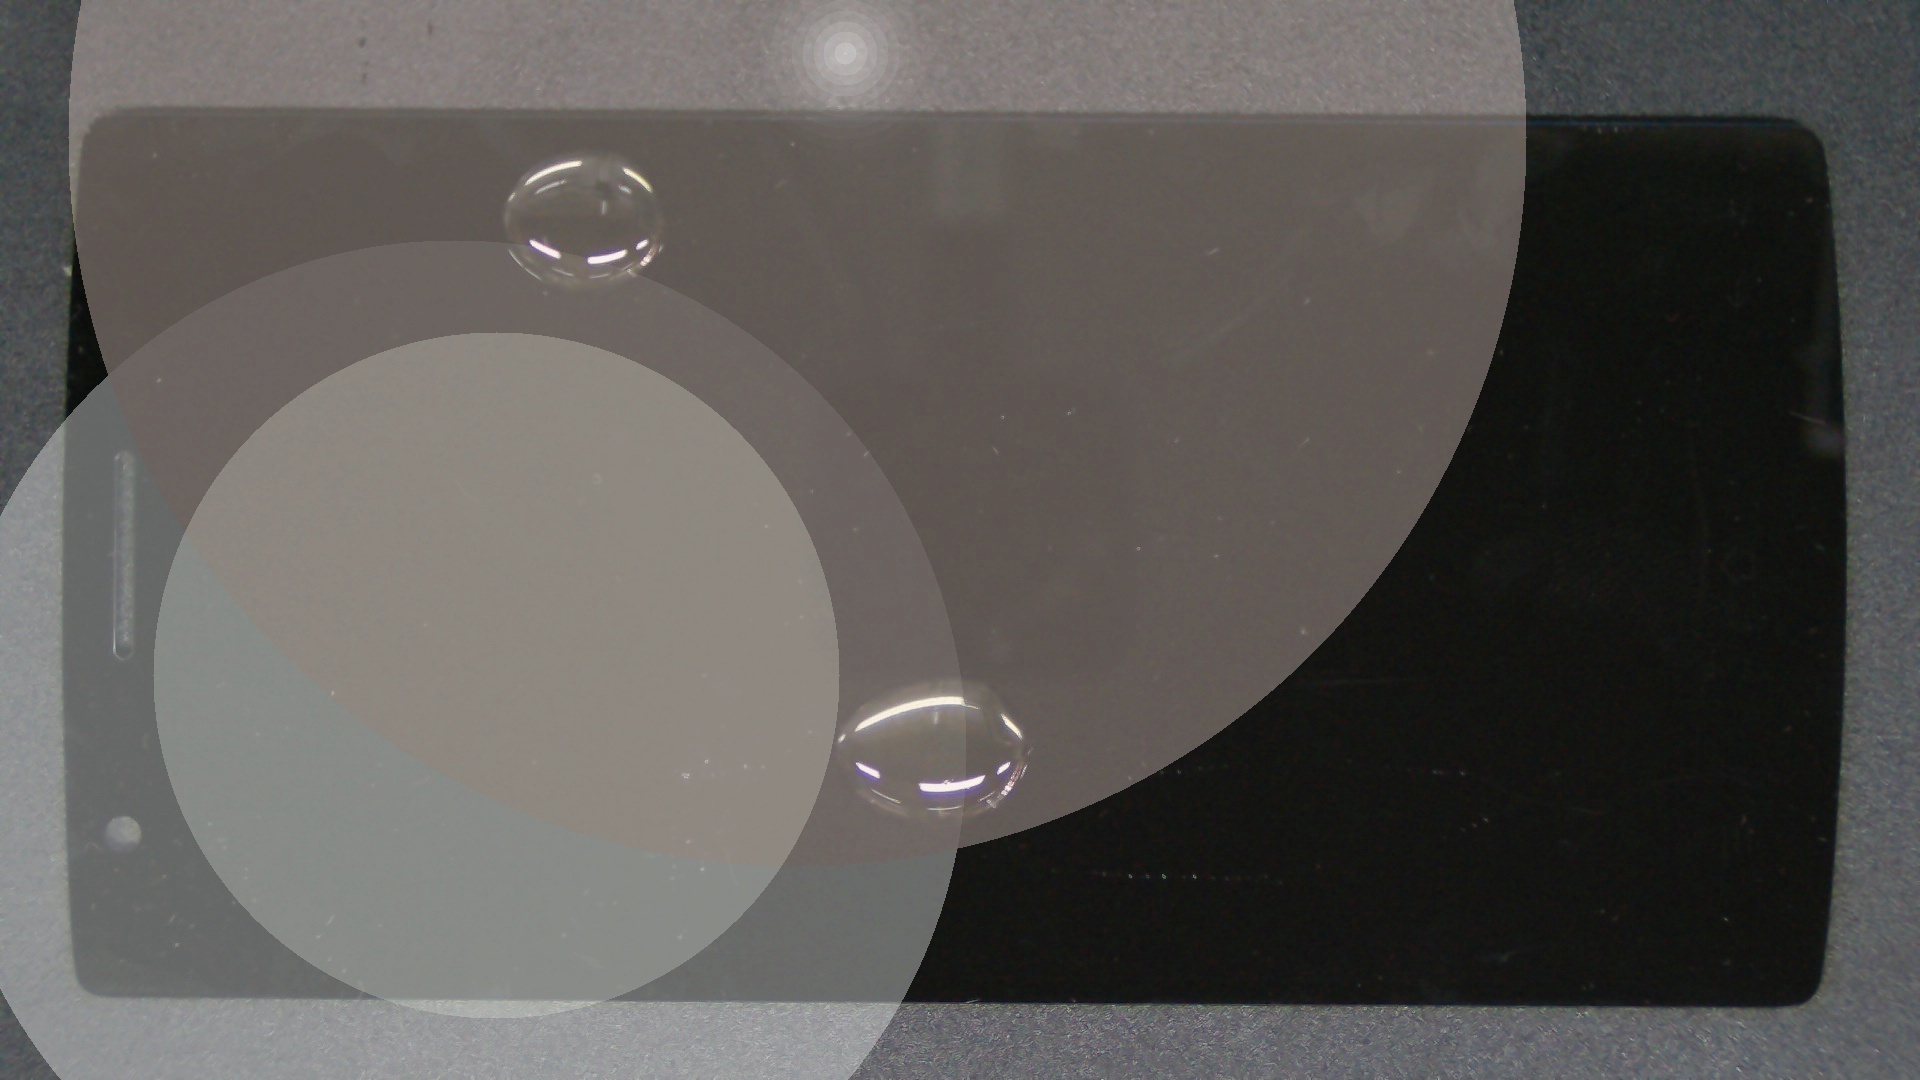oil: (476, 339, 1428, 1019), (297, 74, 889, 223)
